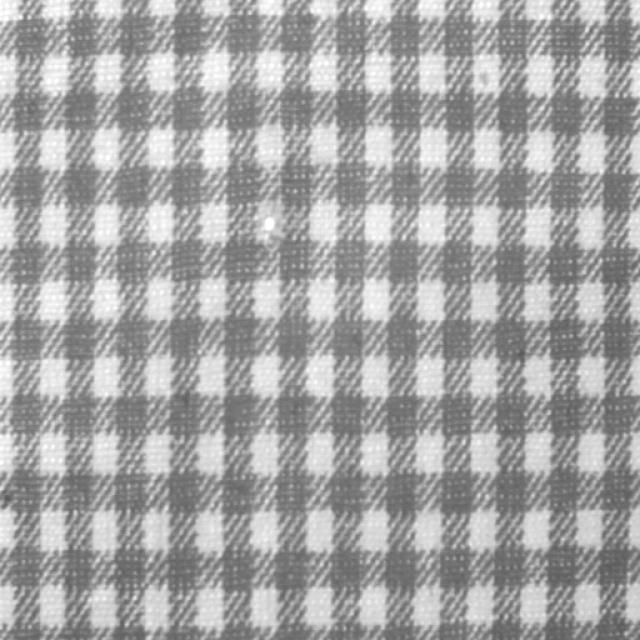Hole-Defect: (258, 214, 280, 240)
